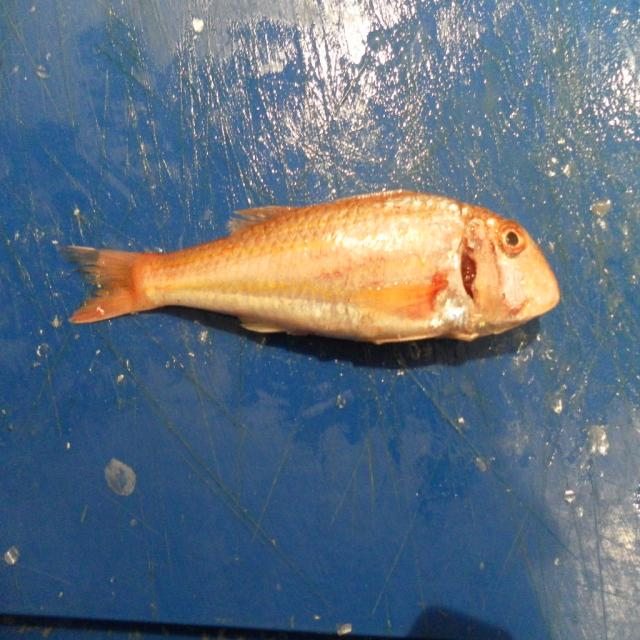Striped-Red-Mullet-tekir-: (61, 191, 562, 348)
